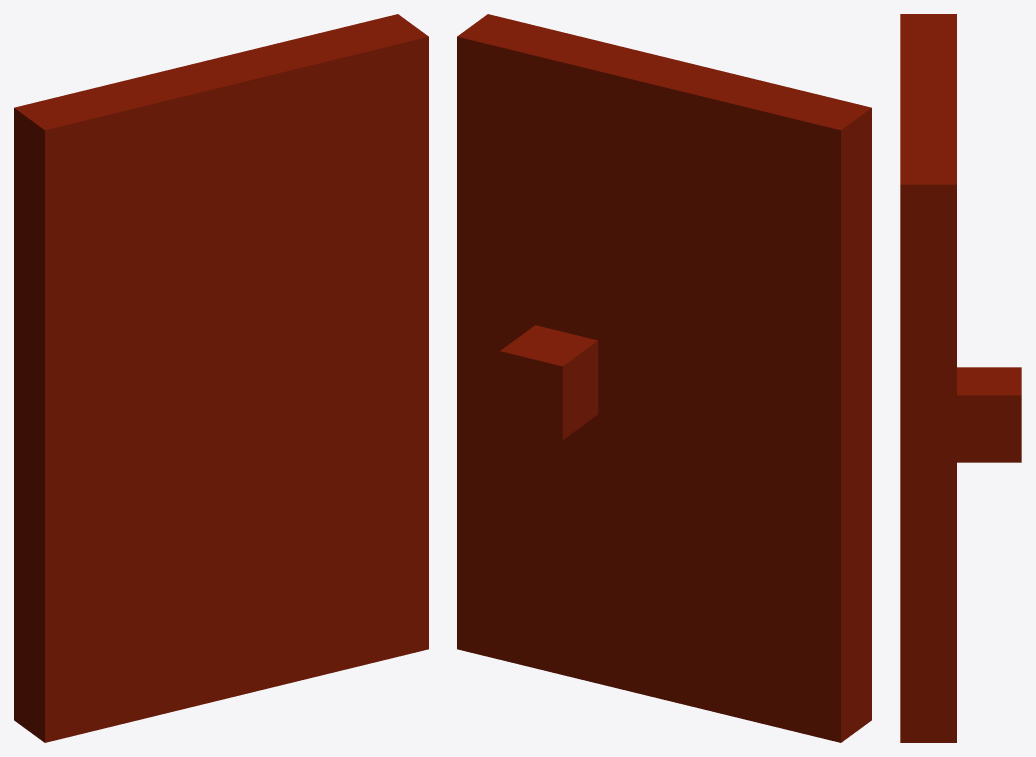
Rendered from home2@in_open.FBX.
The picture shows the model from 3 angles, left to right: view 1: azimuth 30°, elevation 25°; view 2: azimuth 150°, elevation 25°; view 3: azimuth 270°, elevation 25°; orthographic projection. The views are drawn at different scales.
Parts seen in each view (by area): view 1: Object001; view 2: Object001; view 3: Object001.
Boxes of the visible parts, <box> form: Object001: <box>14,14,428,742</box>; Object001: <box>457,14,871,742</box>; Object001: <box>900,14,1021,742</box>.
Bounding box in the file's own units: 15.28 × 23.29 × 4.58.
